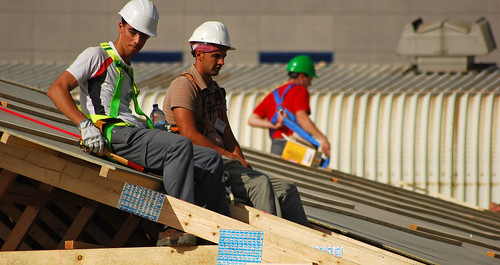person hardhat: (50, 2, 200, 244), (161, 16, 307, 233), (252, 50, 341, 174)
